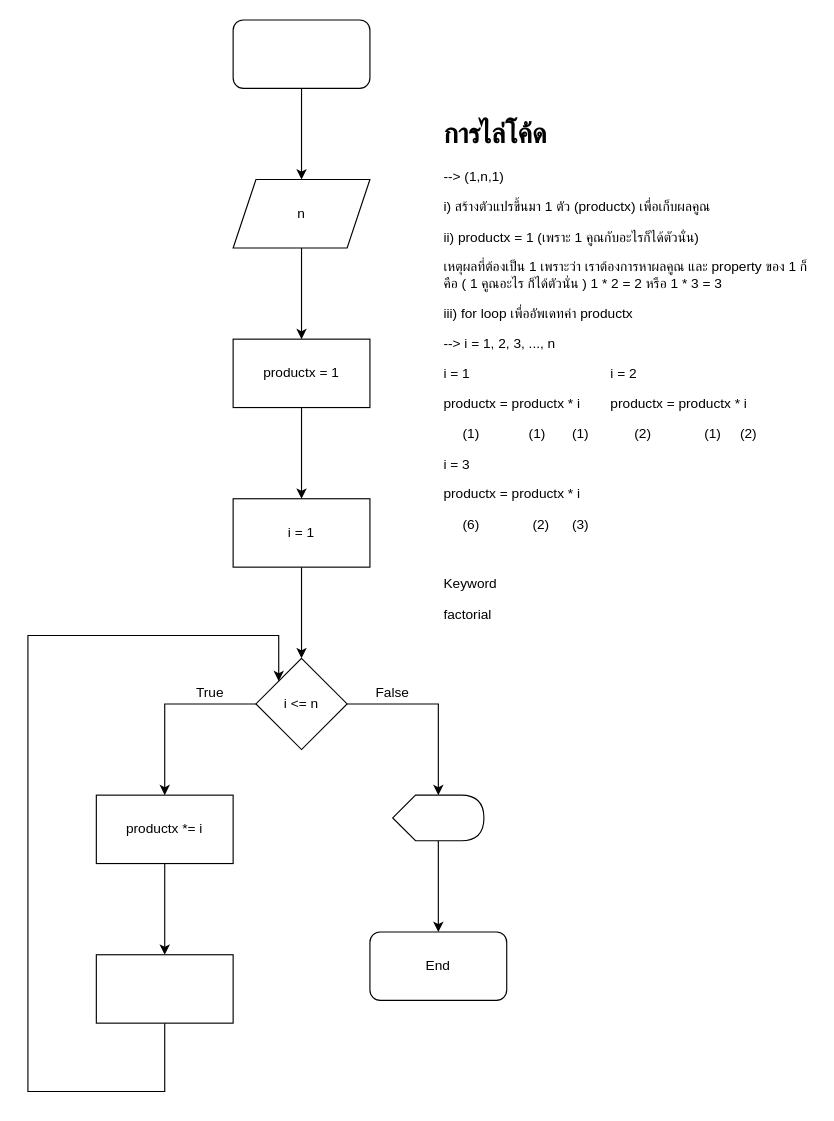
This 834x1121 diagram has some shape labels left out. The shapes that lost their labels are listed below. From the top down, each one's centre as x and y in pixels, then its label:
pixel 301 53: start
pixel 438 817: productx
pixel 164 988: i += 1
